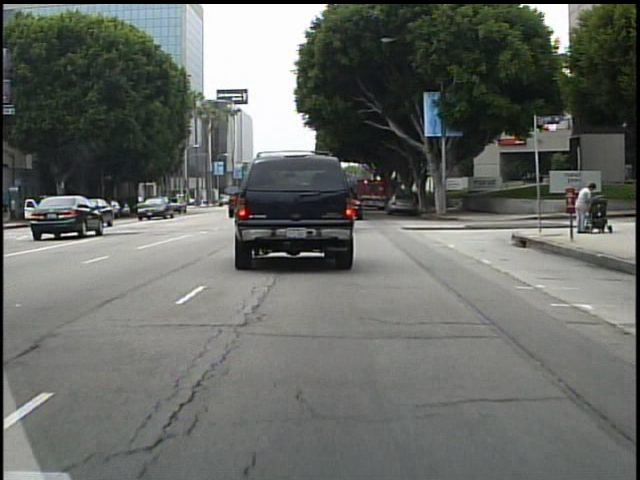person: (571, 179, 595, 235)
